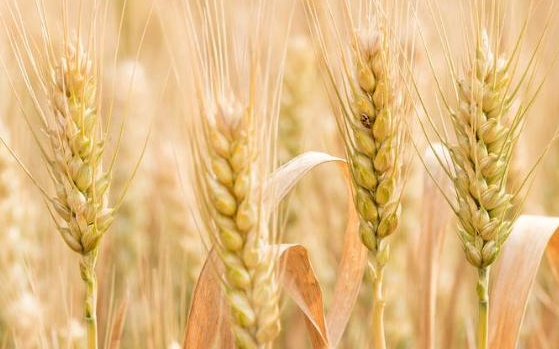wheat: (193, 102, 293, 349), (343, 19, 402, 291), (45, 37, 110, 281), (452, 39, 513, 286)
